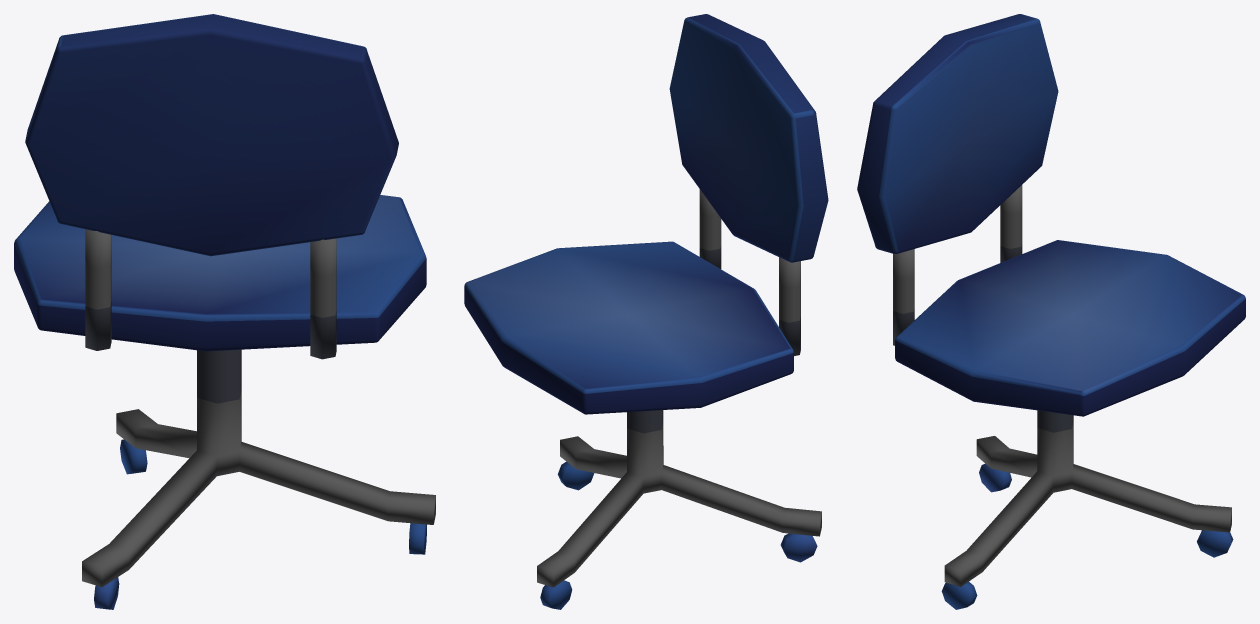
File: silla.fbx
3 renders of one model, left to right at view 1: azimuth 30°, elevation 25°; view 2: azimuth 150°, elevation 25°; view 3: azimuth 270°, elevation 25°, orthographic. The views are drawn at different scales.
Visible parts, largest first — view 1: silla001; view 2: silla001; view 3: silla001.
Boxes of the visible parts, x1=… form: silla001: x1=14, y1=14, x2=435, y2=609; silla001: x1=464, y1=14, x2=828, y2=609; silla001: x1=857, y1=14, x2=1245, y2=609.
Bounding box in the file's own units: 8.04 × 11.07 × 8.03.
